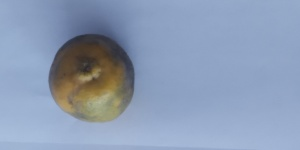BAD: (47, 33, 138, 124)
